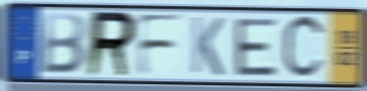B: (38, 11, 89, 77)
C: (280, 12, 328, 84)
E: (232, 16, 279, 78)
F: (134, 12, 185, 79)
K: (189, 15, 226, 79)
R: (84, 9, 139, 80)
